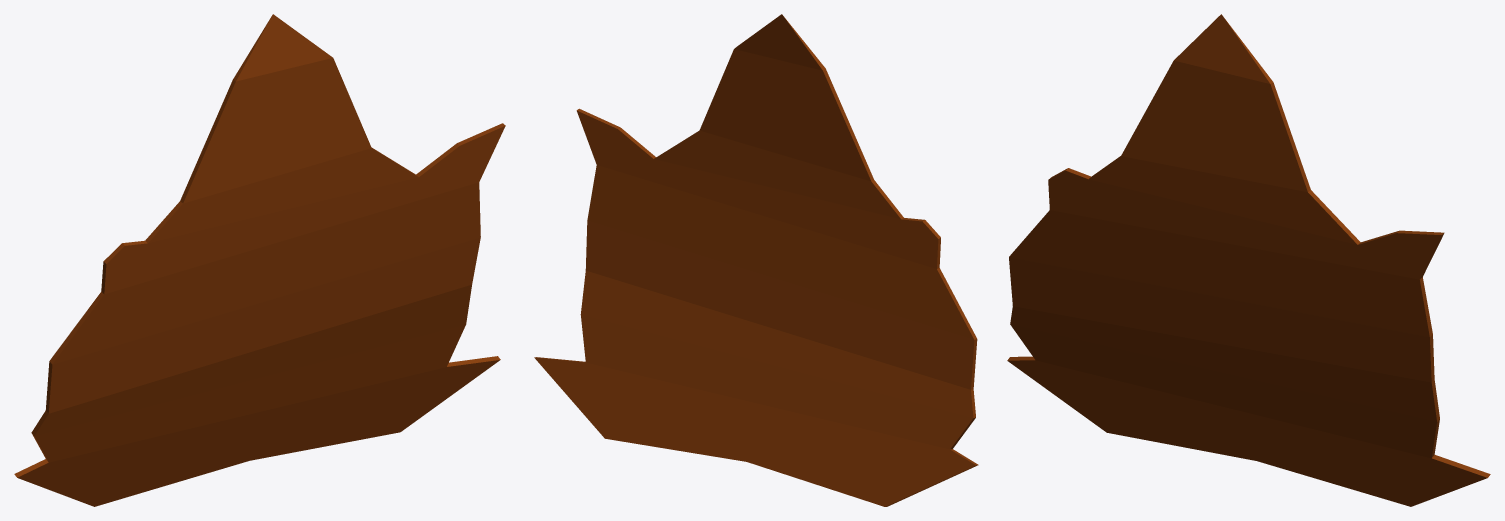
Rendered from LeaveBent_c_03.fbx.
The picture shows the model from 3 angles, left to right: view 1: azimuth 30°, elevation 25°; view 2: azimuth 150°, elevation 25°; view 3: azimuth 330°, elevation 25°; orthographic projection. The views are drawn at different scales.
Visible parts, largest first — view 1: LeaveBent_c_03_LOD0; view 2: LeaveBent_c_03_LOD0; view 3: LeaveBent_c_03_LOD0.
Boxes of the visible parts, bbox=[...] form: LeaveBent_c_03_LOD0: bbox=[14, 14, 505, 506]; LeaveBent_c_03_LOD0: bbox=[534, 14, 978, 506]; LeaveBent_c_03_LOD0: bbox=[1007, 14, 1490, 506].
Size of what is drawn, in the model's own units: 2.42 by 2.29 by 0.3484.
